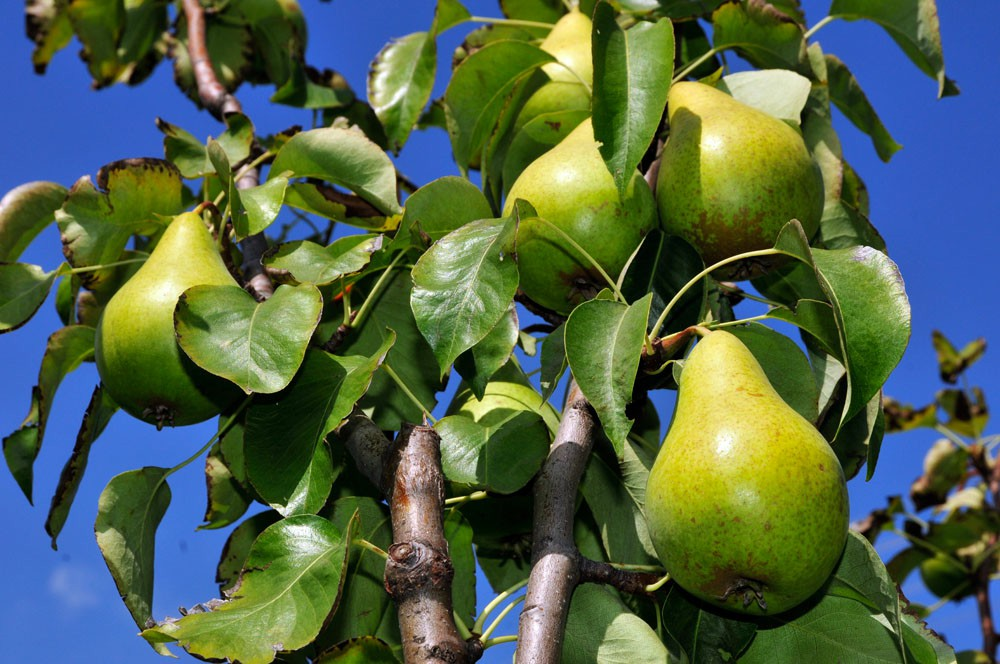pear: (643, 328, 852, 620), (95, 212, 255, 427), (657, 76, 822, 279), (499, 110, 658, 320), (519, 8, 625, 130)
